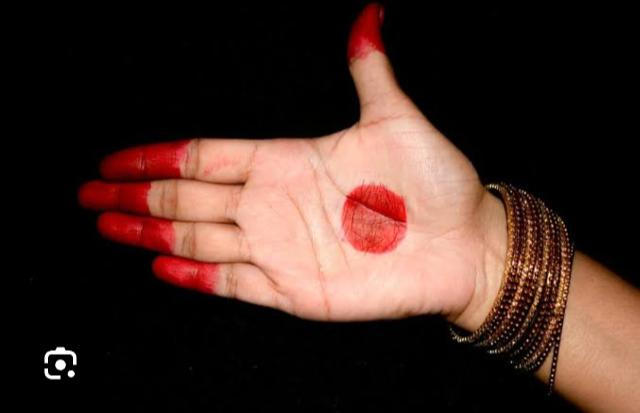ardhachandra: (38, 11, 588, 334)
